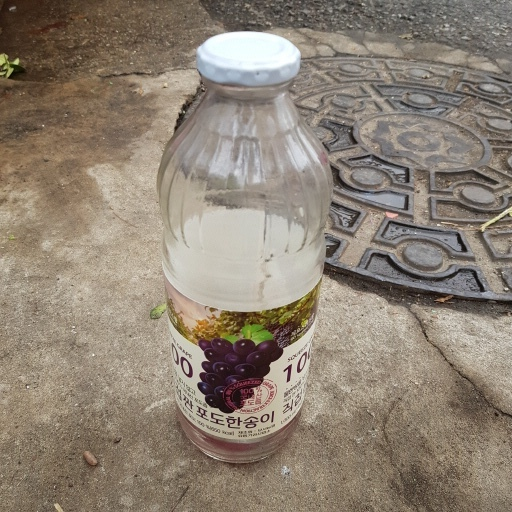Glass_4: (152, 26, 333, 466)
